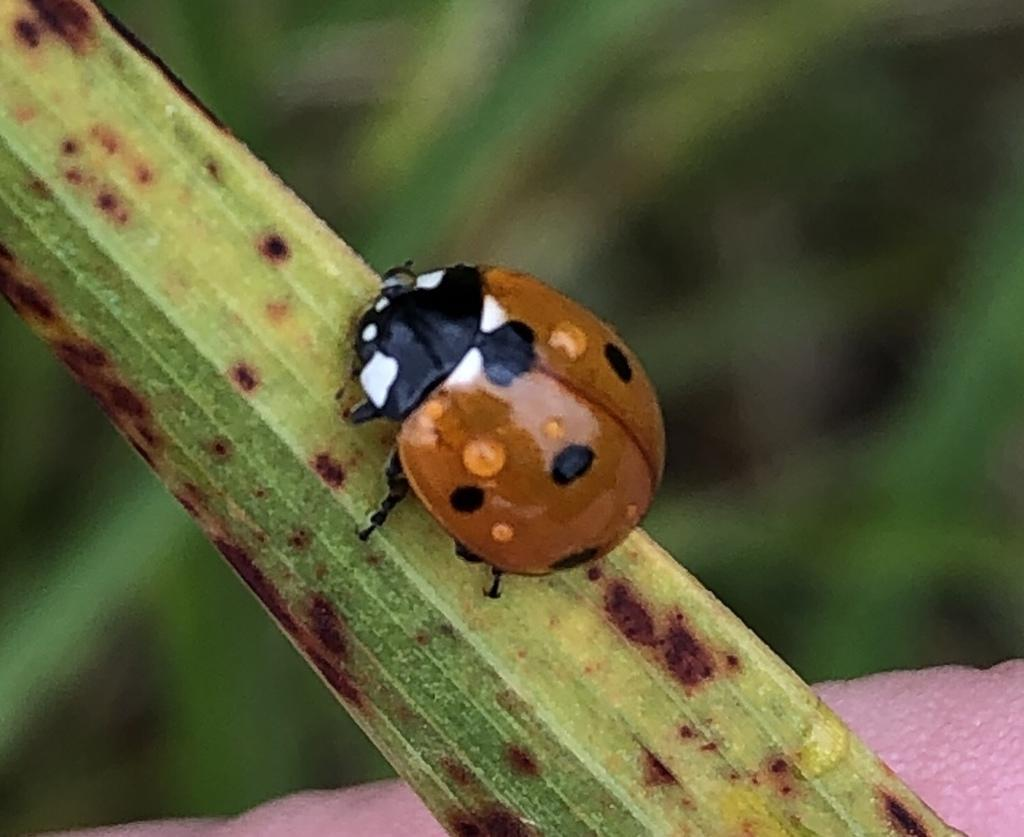ladybug: (334, 259, 674, 601)
